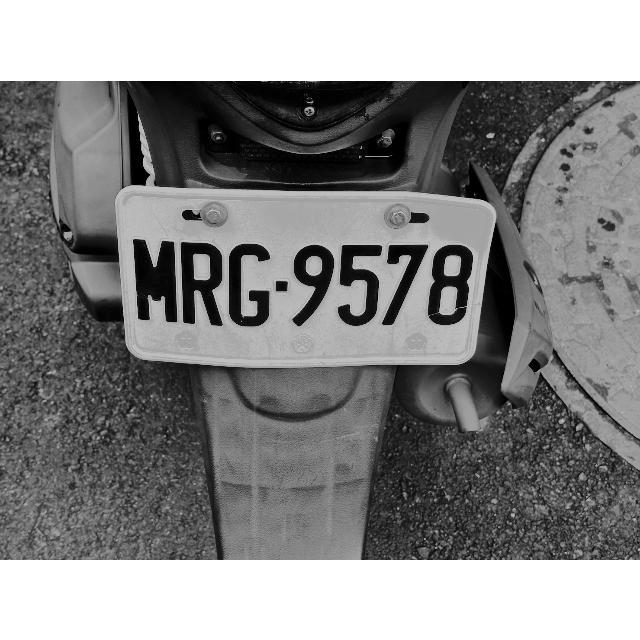-: (274, 272, 290, 300)
5: (338, 242, 382, 330)
7: (384, 238, 428, 329)
8: (429, 241, 473, 331)
9: (292, 242, 336, 332)
G: (230, 238, 272, 326)
M: (132, 236, 178, 324)
R: (180, 238, 226, 326)
